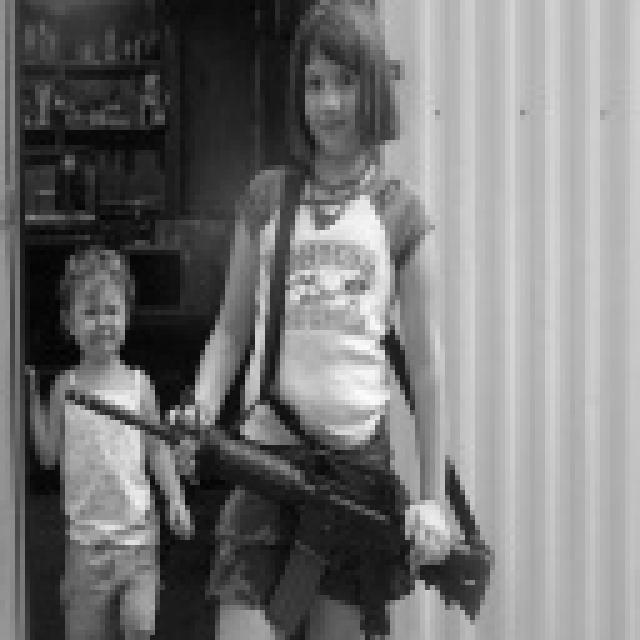Rifle: (0, 355, 515, 640)
